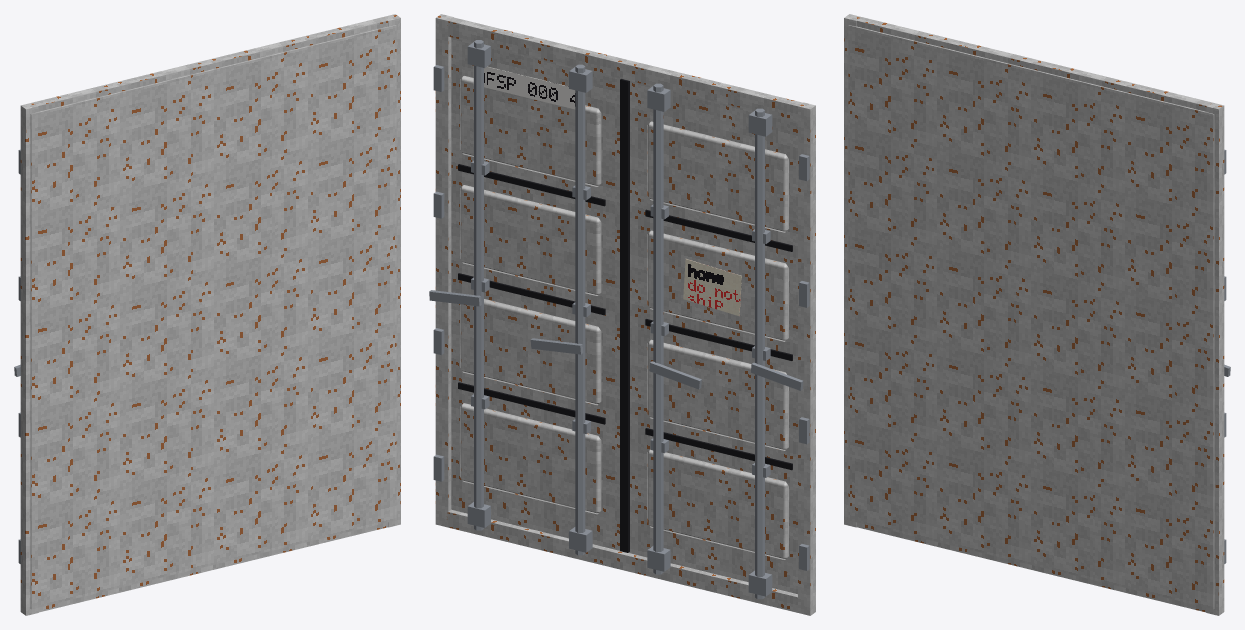
Rendered from s_container_doors.glb.
3 renders of one model, left to right at view 1: azimuth 30°, elevation 25°; view 2: azimuth 150°, elevation 25°; view 3: azimuth 330°, elevation 25°, orthographic.
Parts seen in each view (by area): view 1: s_container_doors_mesh; view 2: s_container_doors_mesh; view 3: s_container_doors_mesh.
Part boxes in pixels (left/top/right/bottom): s_container_doors_mesh: left=14, top=14, right=400, bottom=615; s_container_doors_mesh: left=429, top=14, right=815, bottom=615; s_container_doors_mesh: left=844, top=14, right=1230, bottom=615.
Size of what is drawn, in the model's own units: 2.4 by 3.1 by 0.1525.
Materials: 4 (4 with a texture image).
